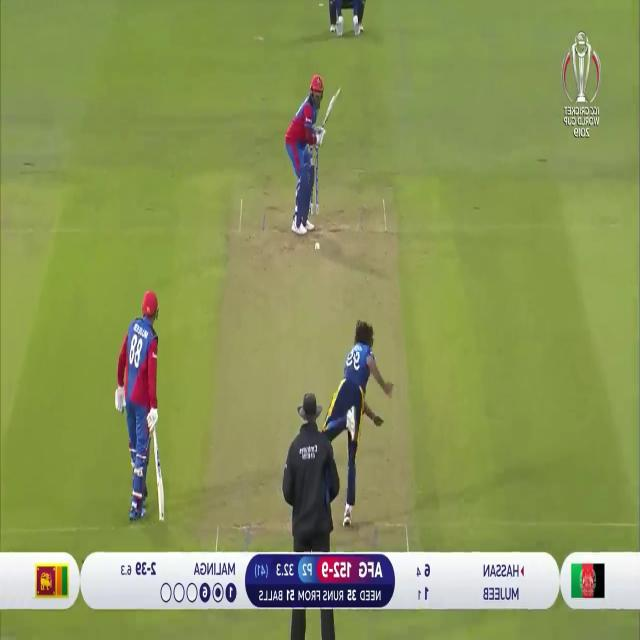ball: (314, 238, 323, 255)
